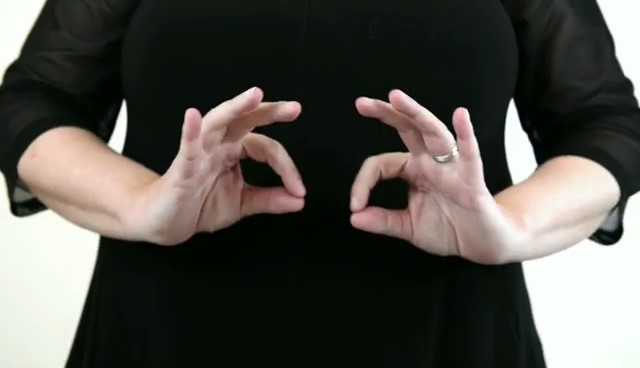B: (146, 82, 502, 275)
